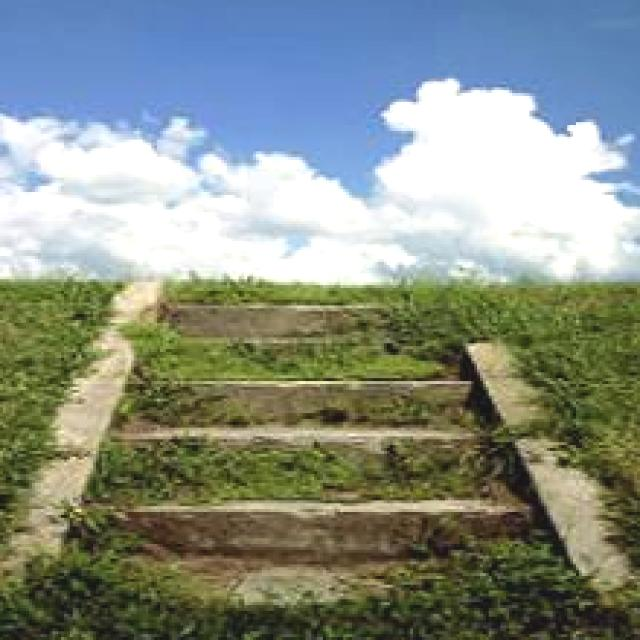upstair: (132, 286, 475, 565)
